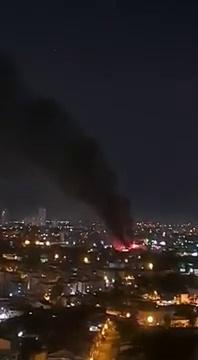smoke: (55, 131, 112, 193)
